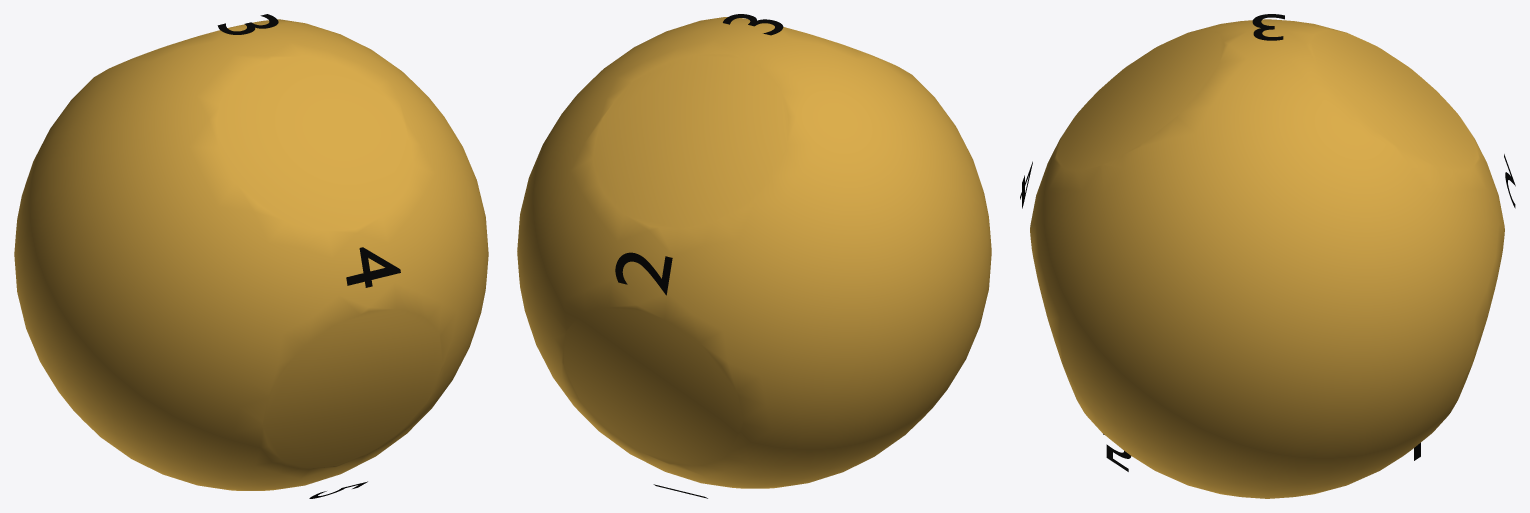
The picture shows the model from 3 angles, left to right: view 1: azimuth 30°, elevation 25°; view 2: azimuth 150°, elevation 25°; view 3: azimuth 270°, elevation 25°; orthographic projection.
Visible parts, largest first — view 1: d5, d5_num; view 2: d5, d5_num; view 3: d5, d5_num.
Part boxes in pixels (x1=…): d5: x1=14, y1=19, x2=488, y2=490; d5_num: x1=217, y1=14, x2=400, y2=498; d5: x1=517, y1=17, x2=991, y2=488; d5_num: x1=615, y1=14, x2=783, y2=498; d5: x1=1030, y1=19, x2=1504, y2=498; d5_num: x1=1020, y1=14, x2=1515, y2=471.
Size of the model in its own units: 2.59 by 2.54 by 2.67.
